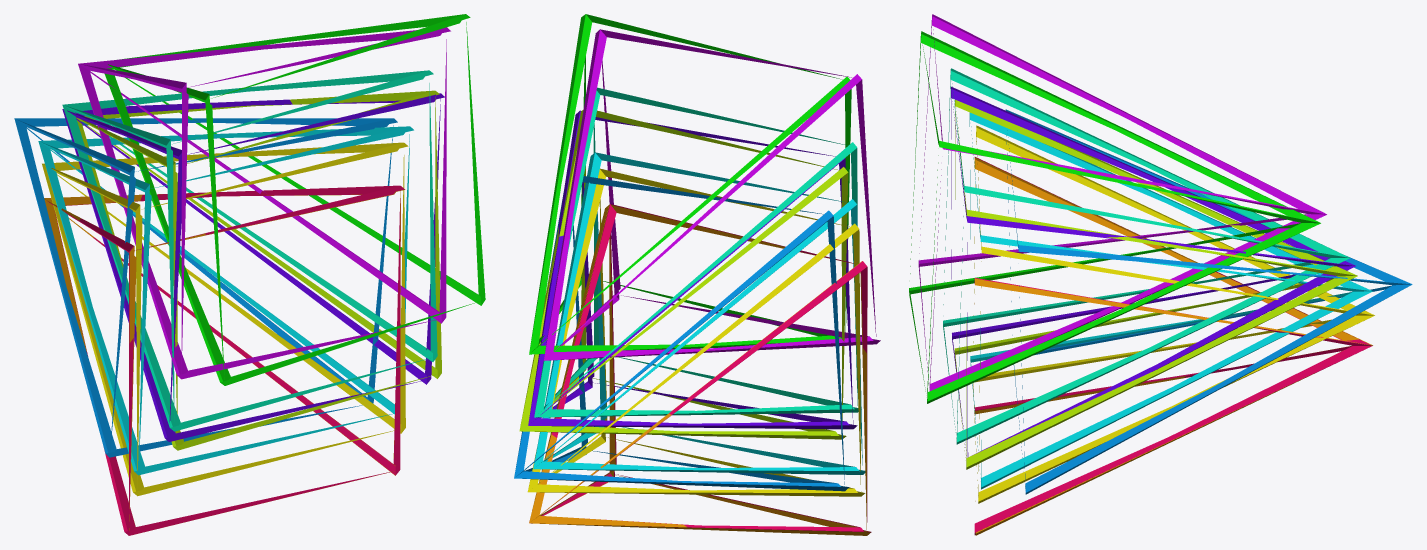
The model's file is glbscene_75_All_maskbFalse_maskwFalse_camTrue_skyFalse_predDepthmap_and_Camera_Branch.glb.
The picture shows the model from 3 angles, left to right: view 1: azimuth 30°, elevation 25°; view 2: azimuth 150°, elevation 25°; view 3: azimuth 270°, elevation 25°; orthographic projection. The views are drawn at different scales.
Visible parts, largest first — view 1: world; view 2: world; view 3: world.
Part boxes in pixels (x1,y1,x2,y2): world: [14, 14, 485, 535]; world: [514, 14, 880, 535]; world: [909, 14, 1412, 535].
Bounding box in the file's own units: 0.0906 × 0.1209 × 0.1314.
